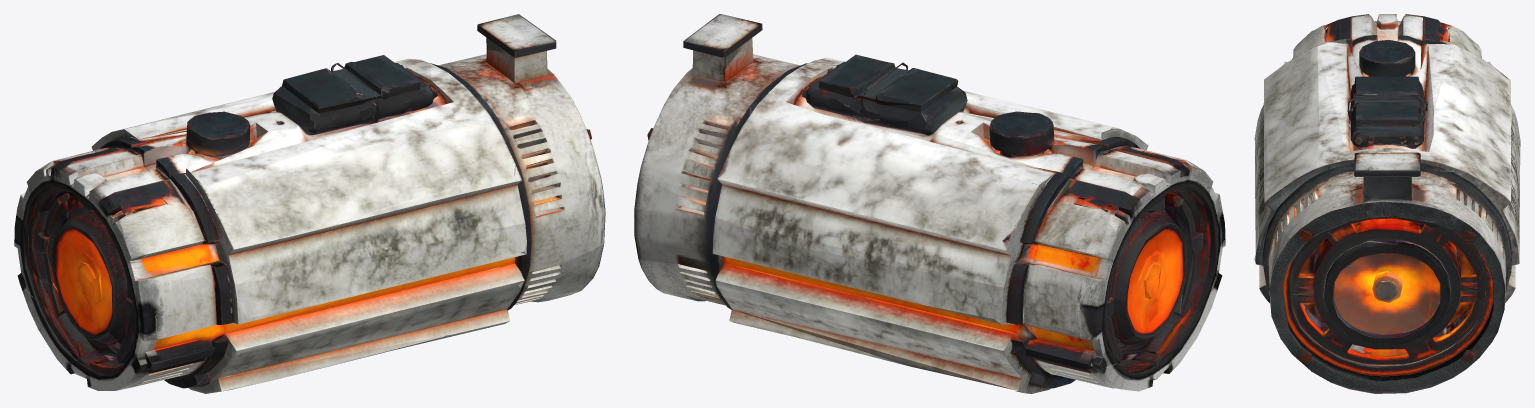
3 renders of one model, left to right at view 1: azimuth 30°, elevation 25°; view 2: azimuth 150°, elevation 25°; view 3: azimuth 270°, elevation 25°, orthographic. The views are drawn at different scales.
Size of the model in its own units: 1.9 by 1.01 by 1.09.
1 material, 1 textured.
